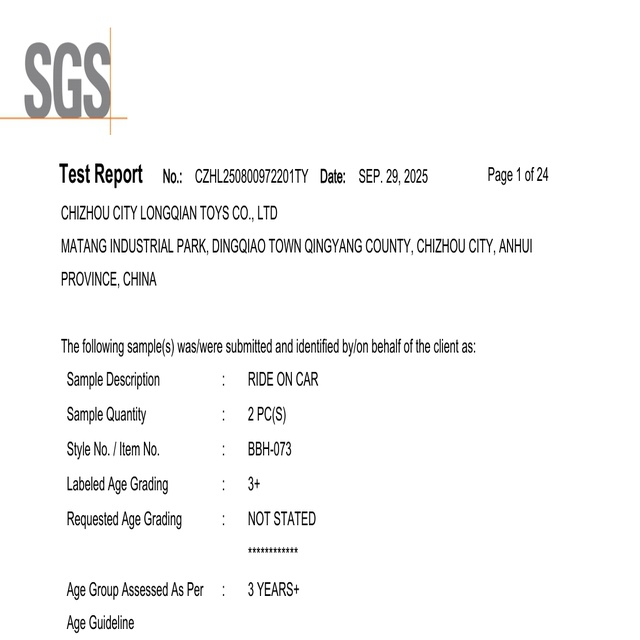sgs: (25, 41, 111, 119)
